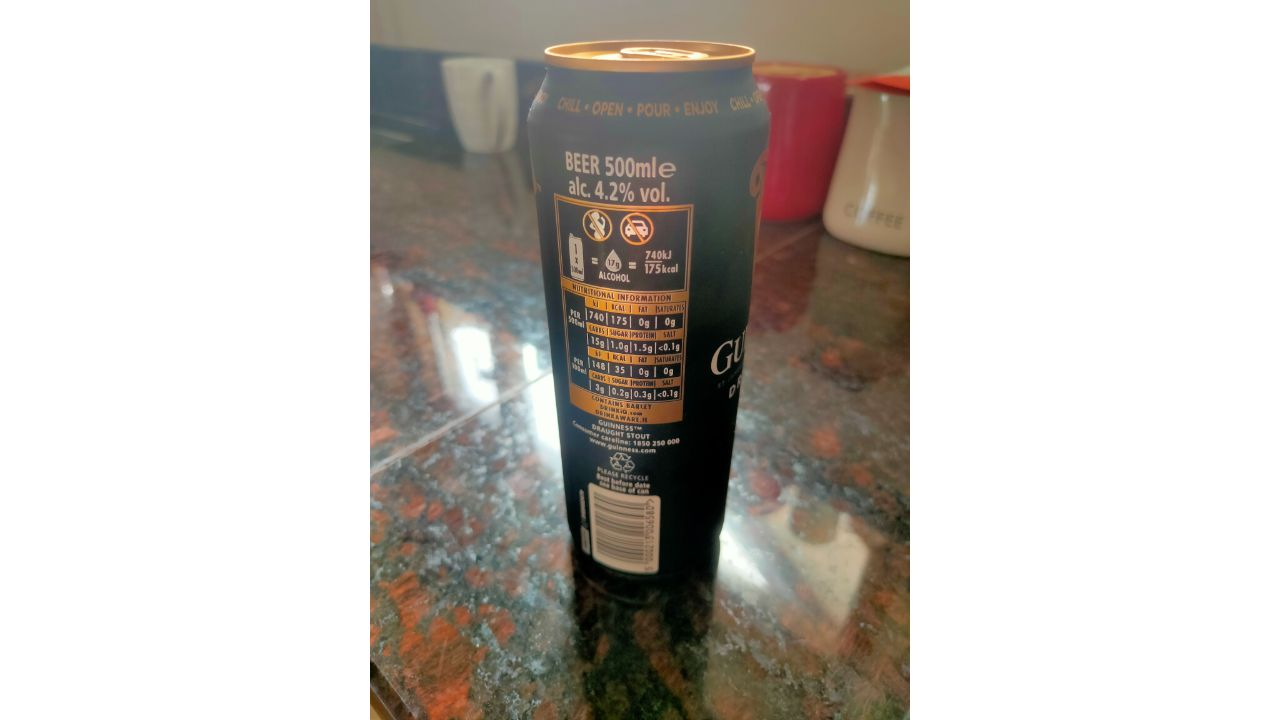Can: (525, 41, 774, 592)
